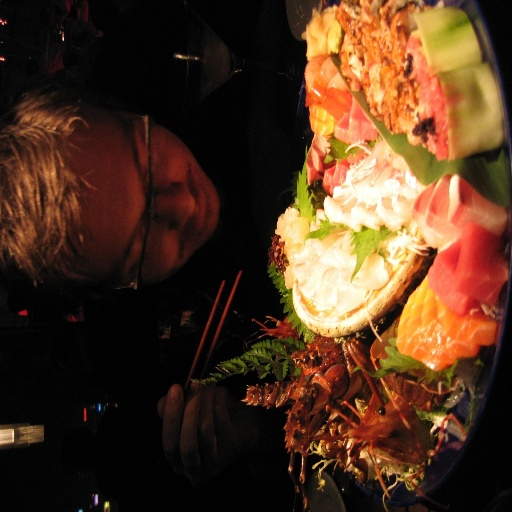hand: (155, 363, 242, 483)
